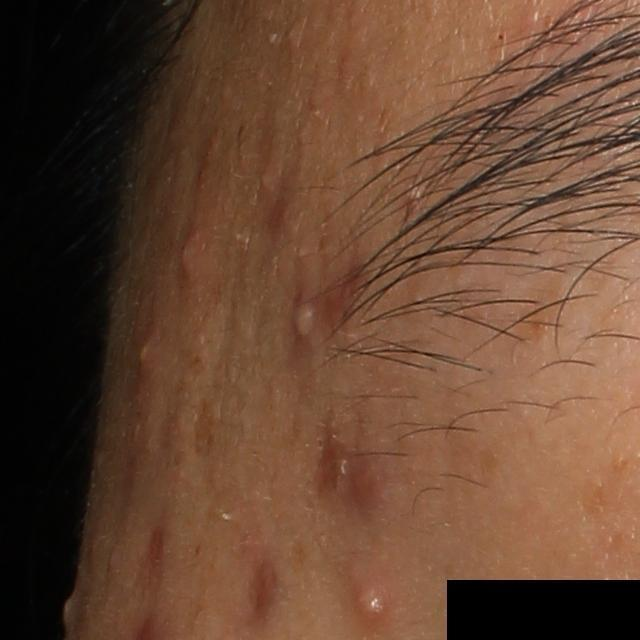papule: (175, 231, 206, 286)
pustule: (345, 569, 392, 626), (292, 298, 322, 344)
